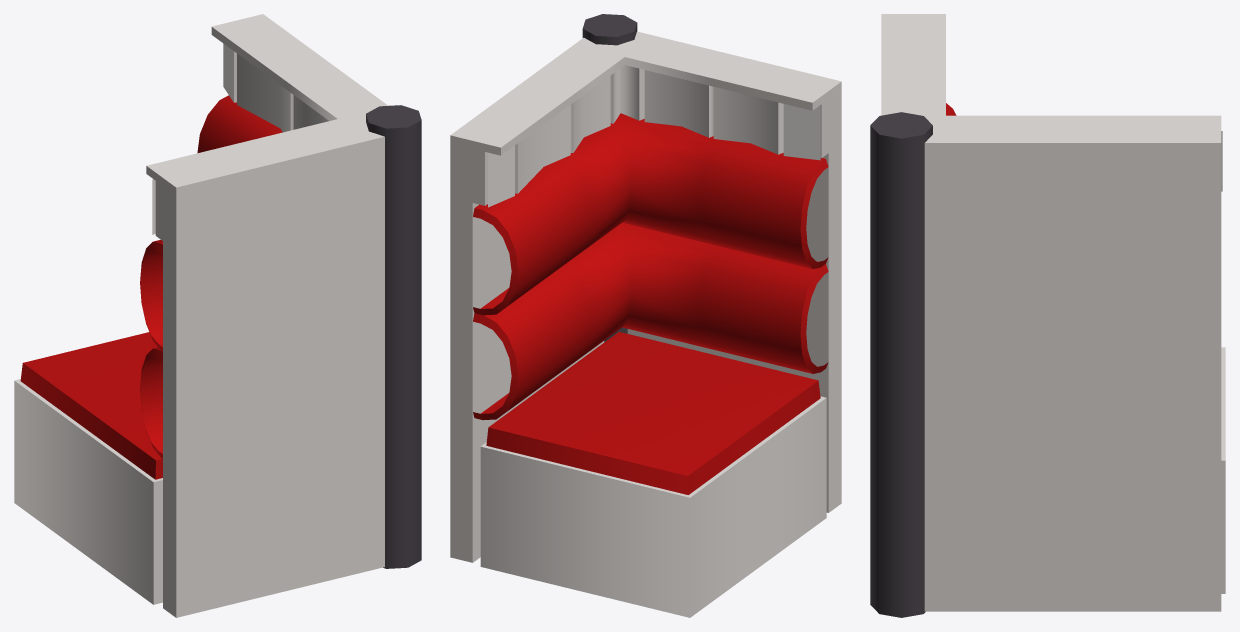
Rendered from SM_seat_mod_02.fbx.
3 views of the same model, side by side, from view 1: azimuth 30°, elevation 25°; view 2: azimuth 150°, elevation 25°; view 3: azimuth 270°, elevation 25° (orthographic). The views are drawn at different scales.
Parts seen in each view (by area): view 1: seat_mod_02; view 2: seat_mod_02; view 3: seat_mod_02.
Boxes of the visible parts, <box> form: seat_mod_02: <box>14,14,421,617</box>; seat_mod_02: <box>450,14,841,617</box>; seat_mod_02: <box>870,14,1225,617</box>.
Size of the model in its own units: 61.03 by 100 by 67.53.
